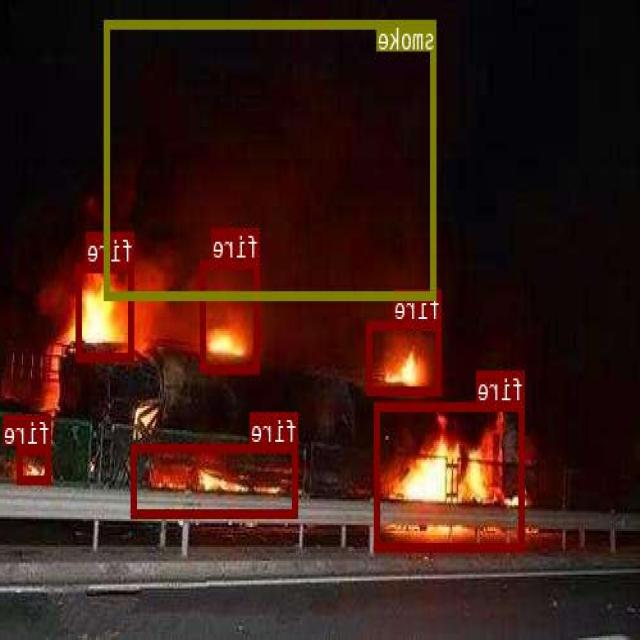fire: (375, 402, 526, 550), (133, 443, 299, 517), (201, 258, 260, 372), (78, 264, 135, 359), (369, 321, 442, 392), (18, 445, 52, 482)
smoke: (106, 18, 437, 298)
